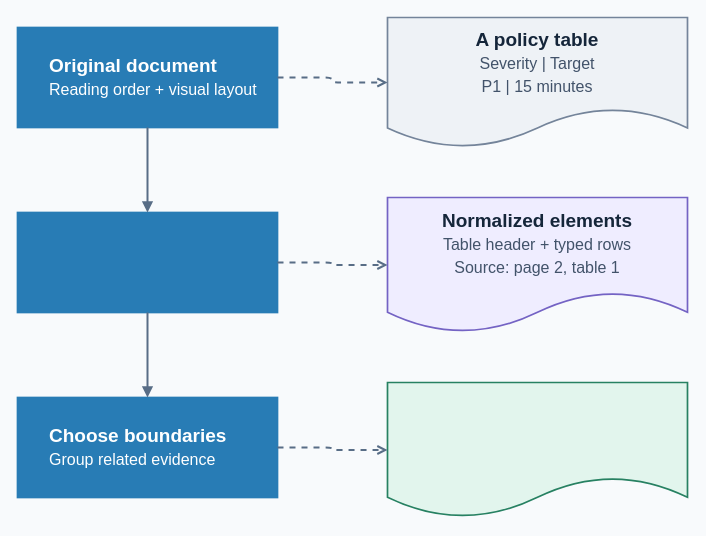
The diagram is 706 pixels wide and 536 high, and some of its shapes have lost their labels. The box of each missing label's shape, as (x1, y1, x2, y2) in pixels:
Parse structure Recover text, headers and rows: (16, 211, 278, 313)
Searchable chunk P1 target: 15 minutes Source: page 2, table 1: (386, 381, 688, 518)
